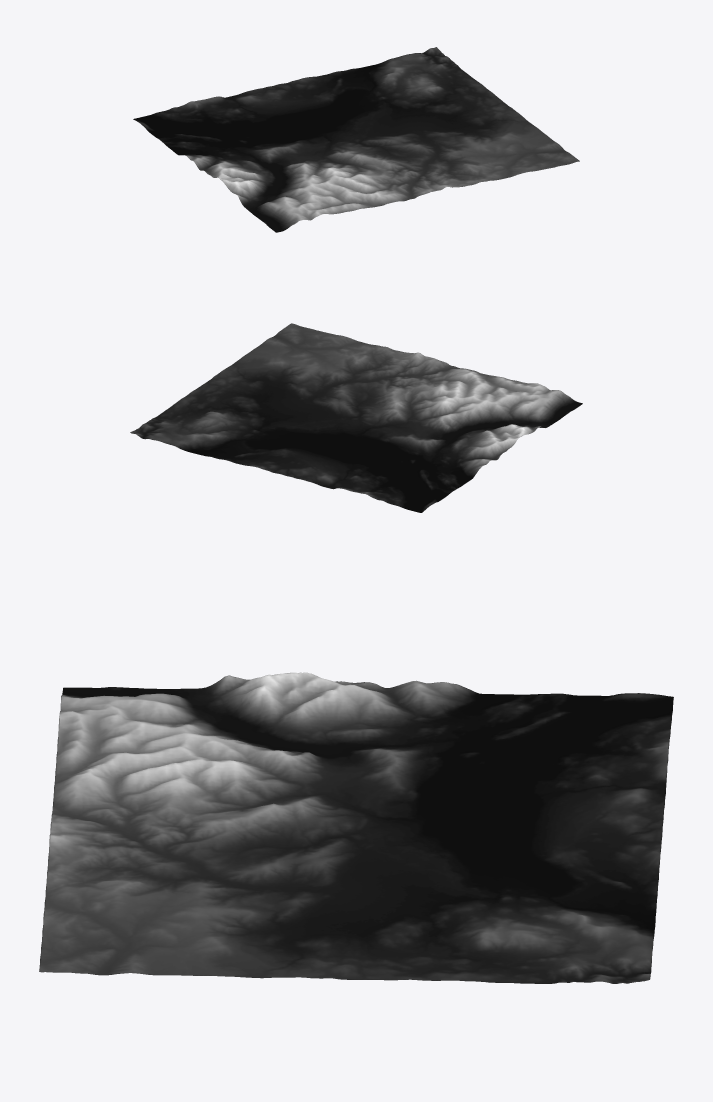
File: 4172-23-SRTM-UnibandaGris.gltf
The picture shows the model from 3 angles, top to bottom: view 1: azimuth 30°, elevation 25°; view 2: azimuth 150°, elevation 25°; view 3: azimuth 270°, elevation 25°; orthographic projection. The views are drawn at different scales.
Visible parts, largest first — view 1: Bariloche - SRTM - Terreno; view 2: Bariloche - SRTM - Terreno; view 3: Bariloche - SRTM - Terreno.
Part boxes in pixels (x1=…): Bariloche - SRTM - Terreno: x1=133, y1=47, x2=579, y2=232; Bariloche - SRTM - Terreno: x1=130, y1=323, x2=582, y2=512; Bariloche - SRTM - Terreno: x1=39, y1=672, x2=673, y2=983.
Size of the model in its own units: 100 by 2.07 by 55.62.
Materials: 1 (1 with a texture image).
